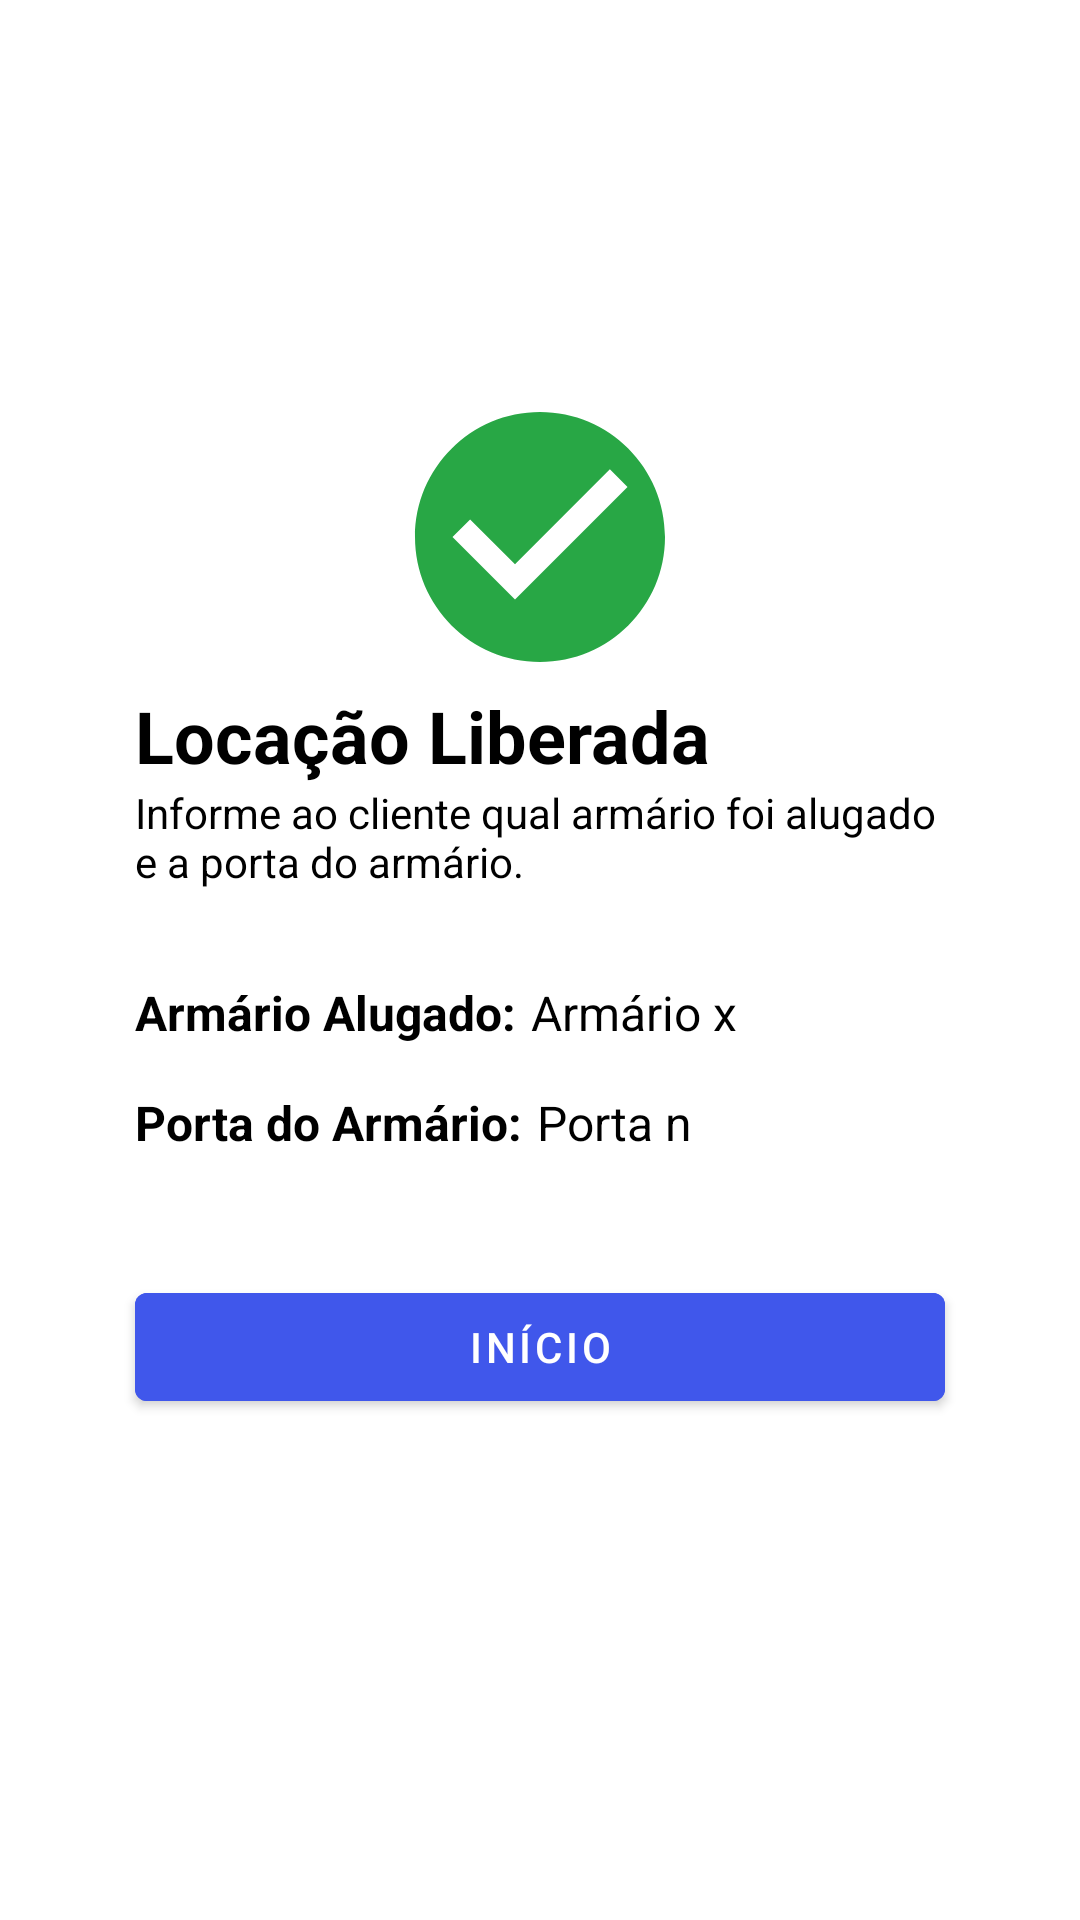

Point at icon controls on the screen. Image size 1080px x 1920px, points as [x,y].
check circle: [540,537]
